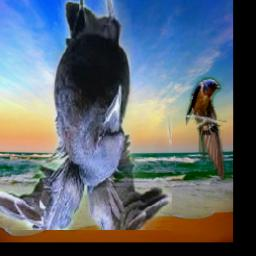Crow: (0, 0, 172, 230)
Swallow: (185, 78, 225, 181)
